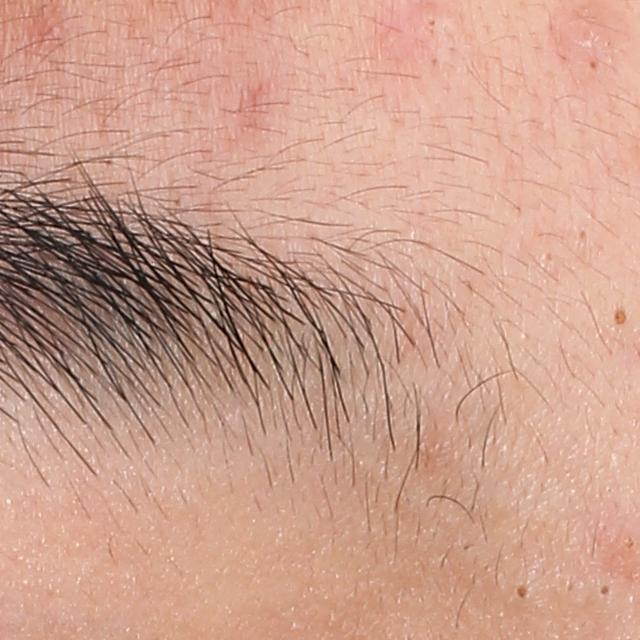comedo: (497, 569, 542, 607), (607, 302, 637, 332), (424, 14, 444, 31), (585, 59, 606, 70)
